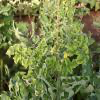Tomato leaf yellow virus: (6, 43, 21, 55), (66, 45, 79, 57), (80, 35, 91, 49), (37, 38, 49, 50), (22, 53, 30, 69), (74, 55, 85, 65), (13, 52, 22, 64), (45, 58, 54, 68), (65, 55, 71, 69), (62, 65, 68, 77), (50, 55, 56, 66), (40, 67, 47, 76), (67, 67, 73, 76), (38, 50, 44, 58)
